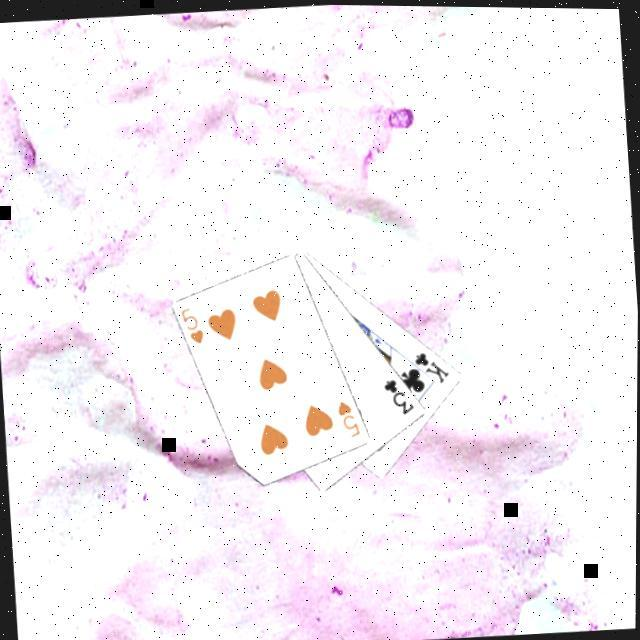3C: (378, 371, 416, 415)
5H: (176, 300, 206, 346), (332, 393, 362, 438)
KC: (402, 343, 451, 385)
